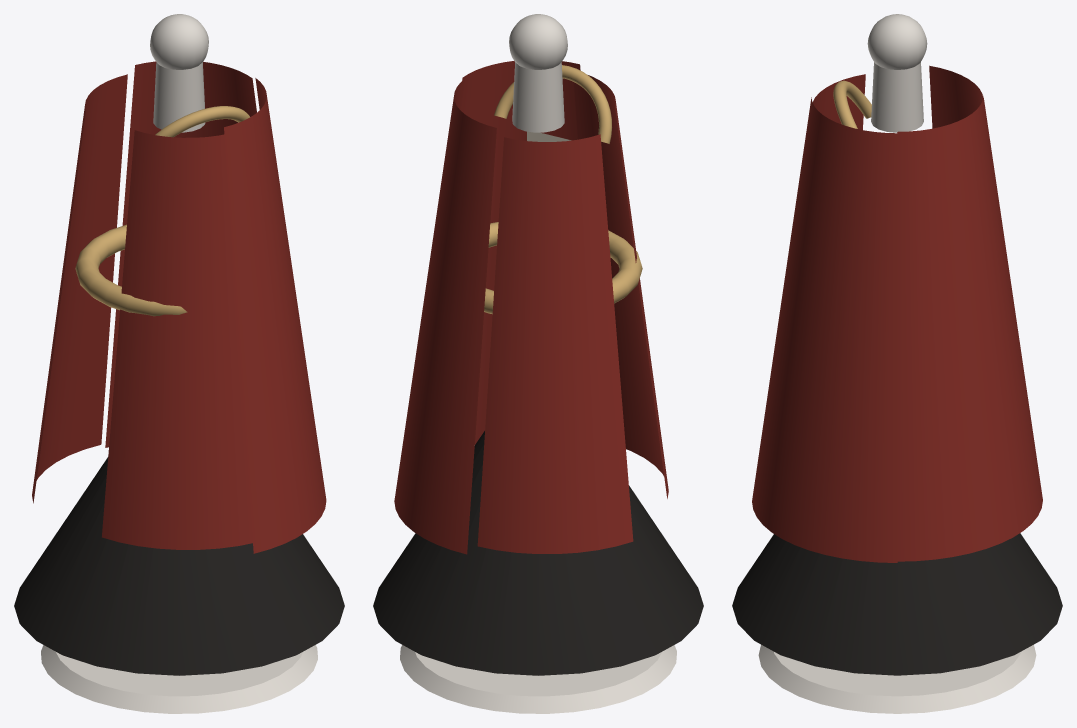
The model's file is ao-tu-than-proxy.glb.
The picture shows the model from 3 angles, left to right: view 1: azimuth 30°, elevation 25°; view 2: azimuth 150°, elevation 25°; view 3: azimuth 270°, elevation 25°; orthographic projection.
Parts seen in each view (by area): view 1: front_right_flap, ensemble_skirt, back_right_panel, front_left_flap, mannequin, back_left_panel, ensemble_sash, collar_band; view 2: front_left_flap, ensemble_skirt, back_left_panel, mannequin, front_right_flap, back_right_panel, ensemble_sash, collar_band; view 3: back_left_panel, back_right_panel, ensemble_skirt, mannequin, front_left_flap, front_right_flap, collar_band.
Boxes of the visible parts, x1,y1,x2,y2 form: front_right_flap: (102,130,252,549); ensemble_skirt: (14,457,344,675); back_right_panel: (224,78,326,553); front_left_flap: (32,74,127,503); mannequin: (41,14,317,713); back_left_panel: (105,61,256,447); ensemble_sash: (75,224,187,316); collar_band: (155,106,249,137); front_left_flap: (477,134,633,553); ensemble_skirt: (373,431,703,675); back_left_panel: (394,79,496,554); mannequin: (400,14,676,713); front_right_flap: (573,75,668,498); back_right_panel: (461,61,580,444); ensemble_sash: (484,222,642,314); collar_band: (494,65,611,143); back_left_panel: (897,96,1042,561); back_right_panel: (752,97,897,562); ensemble_skirt: (732,533,1062,675); mannequin: (758,14,1036,713); front_left_flap: (929,65,982,128); front_right_flap: (812,74,865,129); collar_band: (833,80,871,128).
Bounding box in the file's own units: 1 × 2.13 × 1.
